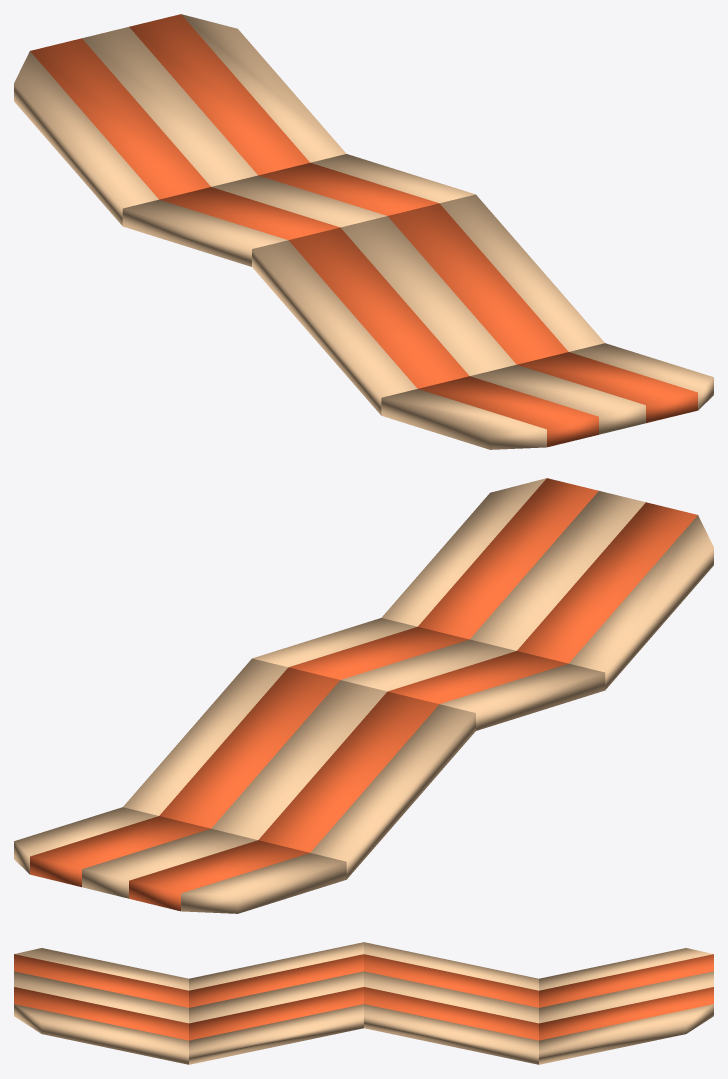
Rendered from baconRaw.GLB.
The picture shows the model from 3 angles, top to bottom: view 1: azimuth 30°, elevation 25°; view 2: azimuth 150°, elevation 25°; view 3: azimuth 270°, elevation 25°; orthographic projection. The views are drawn at different scales.
Parts seen in each view (by area): view 1: baconRaw; view 2: baconRaw; view 3: baconRaw.
Boxes of the visible parts, x1,y1,x2,y2 form: baconRaw: [14, 14, 713, 449]; baconRaw: [14, 478, 713, 913]; baconRaw: [14, 942, 713, 1064].
Bounding box in the file's own units: 0.13 × 0.04 × 0.52.
